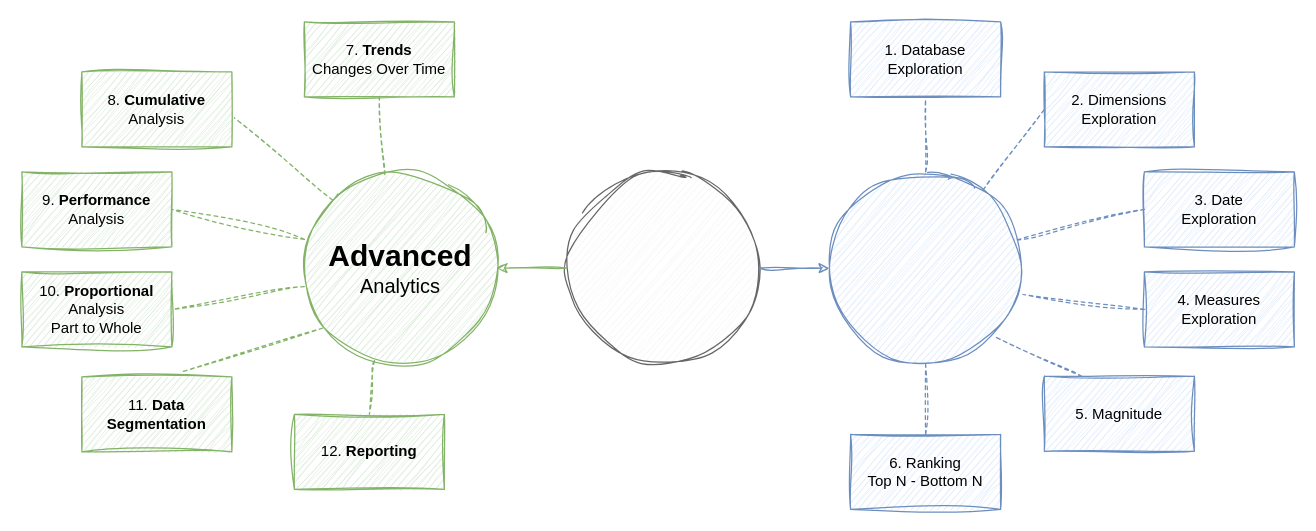
The diagram is 1316 pixels wide and 531 high, and some of its shapes have lost their labels. The centre of each missing label's shape, as x and y in pixels:
"Data Analytics" goes at (x=662, y=267).
"Exploratory Data Analysis (EDA)" goes at (x=925, y=267).
